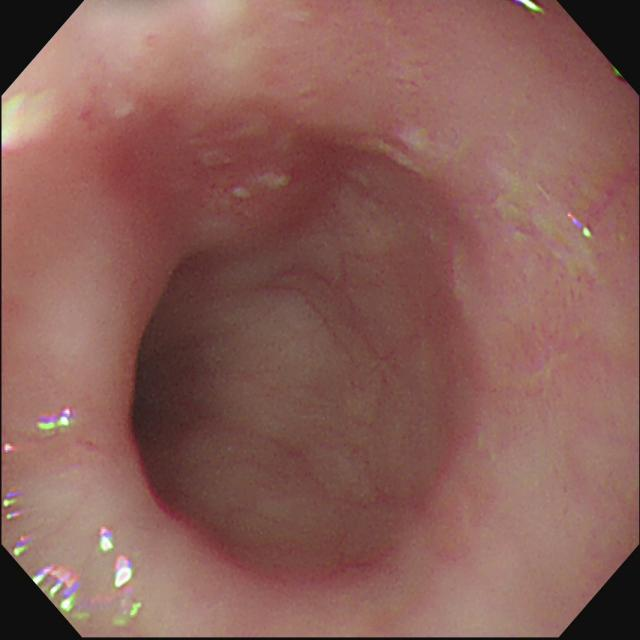A: (292, 123, 359, 234)
E: (117, 319, 213, 523)
J: (375, 126, 441, 178), (233, 169, 293, 202)
U: (33, 567, 81, 613), (37, 408, 74, 434), (115, 555, 135, 591), (568, 214, 593, 237), (4, 489, 20, 522), (515, 2, 546, 16), (14, 534, 32, 557), (100, 528, 115, 554)
